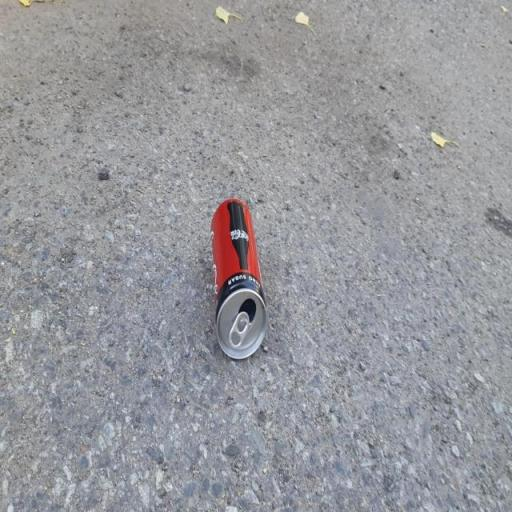metal: (163, 148, 295, 388)
